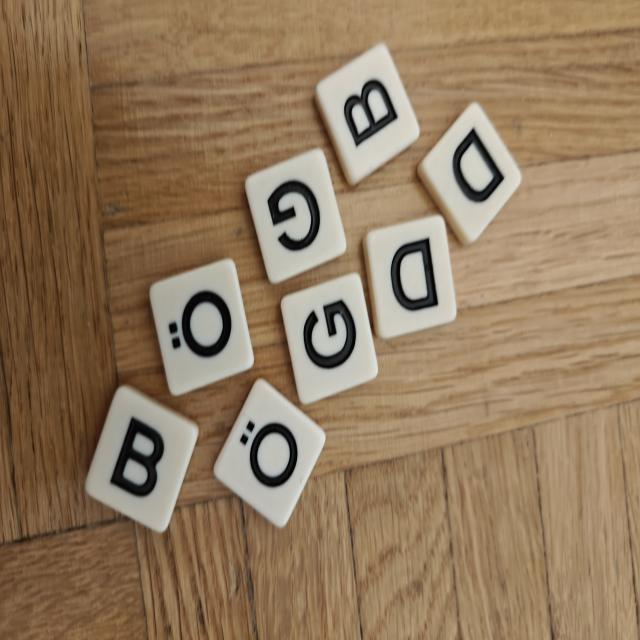b: (85, 385, 198, 532), (315, 44, 419, 185)
d: (418, 102, 521, 244), (363, 215, 457, 338)
g: (245, 148, 346, 283), (281, 273, 378, 404)
o_dot: (214, 379, 325, 527), (150, 259, 254, 395)
